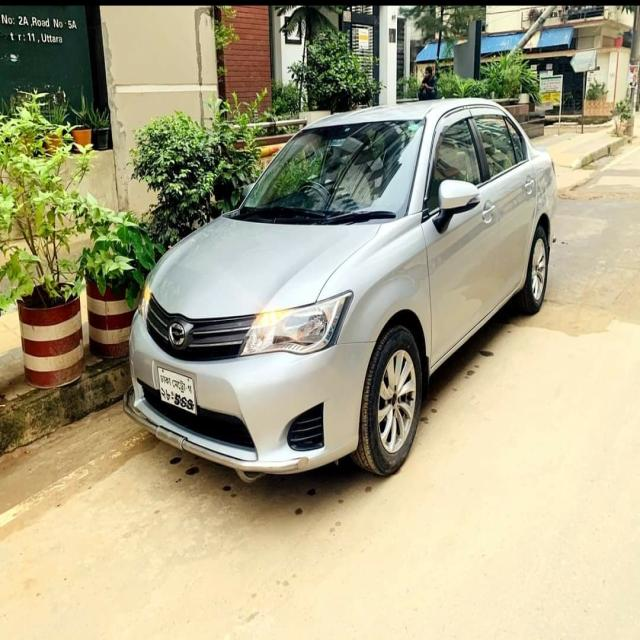silver: (110, 108, 555, 506)
